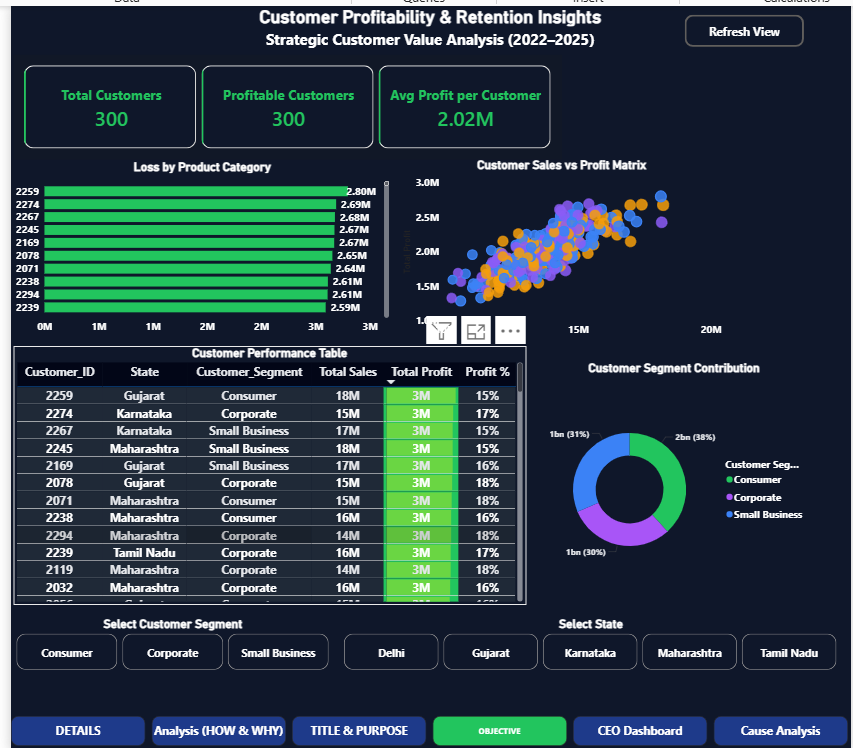

Layout of this report page (visuals, bound fields, positions):
{"tool":"powerbi","page":{"name":"OBJECTIVE","canvas":[1350,1200],"ordinal":3},"visuals":[{"type":"textbox","title":"Customer Profitability & Retention Insights","box":[0,0,1349.2,75.6],"z":0},{"type":"cardVisual","fields":{"Data":["Customer_Table.Total Customers","Customer_Table.Profitable Customers","Customer_Table.Loss Customers","Customer_Table.Avg Profit per Customer"]},"box":[4,78.4,1144.1,158.8],"z":1000},{"type":"clusteredBarChart","title":"Loss by Product Category","fields":{"Category":["Customer_Table.Customer_ID"],"Y":["Sales_Fact_Table.Total Profit"]},"box":[2,247.3,611.3,289.5],"z":2000},{"type":"tableEx","title":"Customer Performance Table","fields":{"Values":["Customer_Table.Customer_ID","Customer_Table.State","Customer_Table.Customer_Segment","Sales_Fact_Table.Total Sales","Sales_Fact_Table.Total Profit","Customer_Table.Profit %"]},"box":[4,546.9,824.4,416.2],"z":3000},{"type":"advancedSlicerVisual","title":"Select Customer Segment","fields":{"Values":["Customer_Table.Customer_Segment"]},"box":[4,983.2,512.7,90.5],"z":5000},{"type":"actionButton","box":[1083.8,14.7,191.7,51.6],"z":6000},{"type":"pageNavigator","box":[0,1142.1,1349.2,48.3],"z":7000},{"type":"scatterChart","title":"Customer Sales vs Profit Matrix","fields":{"X":["Sales_Fact_Table.Total Sales"],"Y":["Sales_Fact_Table.Total Profit"],"Size":["Sum(Sales_Fact_Table.Quantity)"],"Series":["Customer_Table.Customer_Segment"],"Category":["Customer_Table.Customer_ID"]},"box":[623.3,245.3,524.8,297.6],"z":8000},{"type":"donutChart","title":"Customer Segment Contribution","fields":{"Category":["Customer_Table.Customer_Segment"],"Y":["Sales_Fact_Table.Total Sales"]},"box":[836.5,571,460.5,392.1],"z":9000},{"type":"advancedSlicerVisual","title":"Select State","fields":{"Values":["Customer_Table.State"]},"box":[530.8,983.2,804.3,90.5],"z":10000}]}

Visuals, with their boxes on the page's 1350x1200 design canvas (x1, y1, x2, y2). These are canvas units, not pixel positions in the 853x748 screenshot, which may show the page scaled, cropped or inside an application window:
"Customer Profitability & Retention Insights" textbox: [0,0,1349,76]
cardVisual - Customer_Table.Total Customers x Customer_Table.Profitable Customers: [4,78,1148,237]
"Loss by Product Category" clusteredBarChart: [2,247,613,537]
"Customer Performance Table" tableEx: [4,547,828,963]
"Select Customer Segment" advancedSlicerVisual: [4,983,517,1074]
actionButton: [1084,15,1276,66]
pageNavigator: [0,1142,1349,1190]
"Customer Sales vs Profit Matrix" scatterChart: [623,245,1148,543]
"Customer Segment Contribution" donutChart: [836,571,1297,963]
"Select State" advancedSlicerVisual: [531,983,1335,1074]
